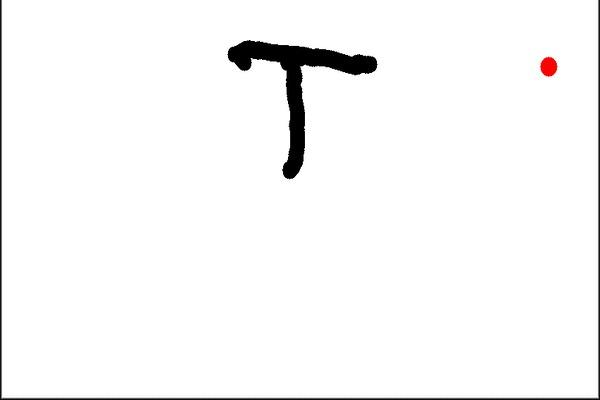T: (221, 33, 384, 181)
